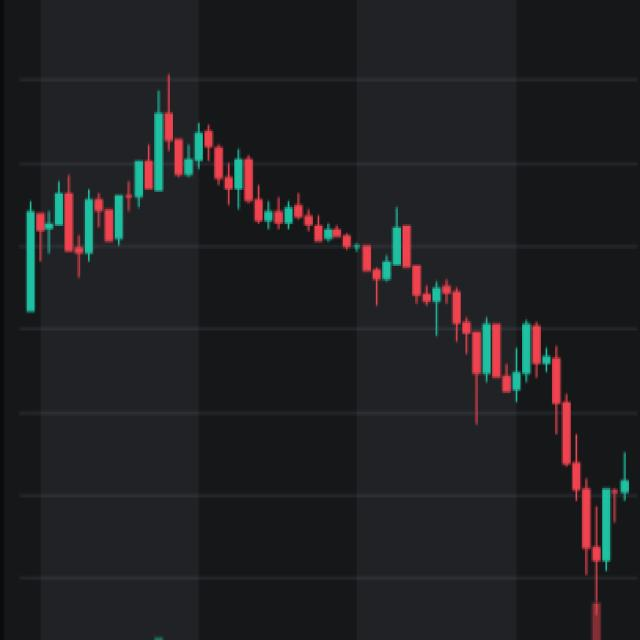Support-breakout: (107, 102, 577, 494)
